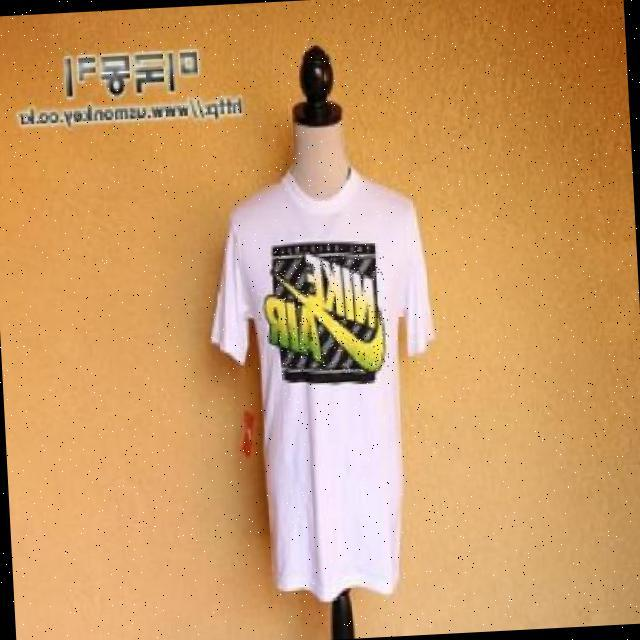Nike: (275, 245, 391, 376)
